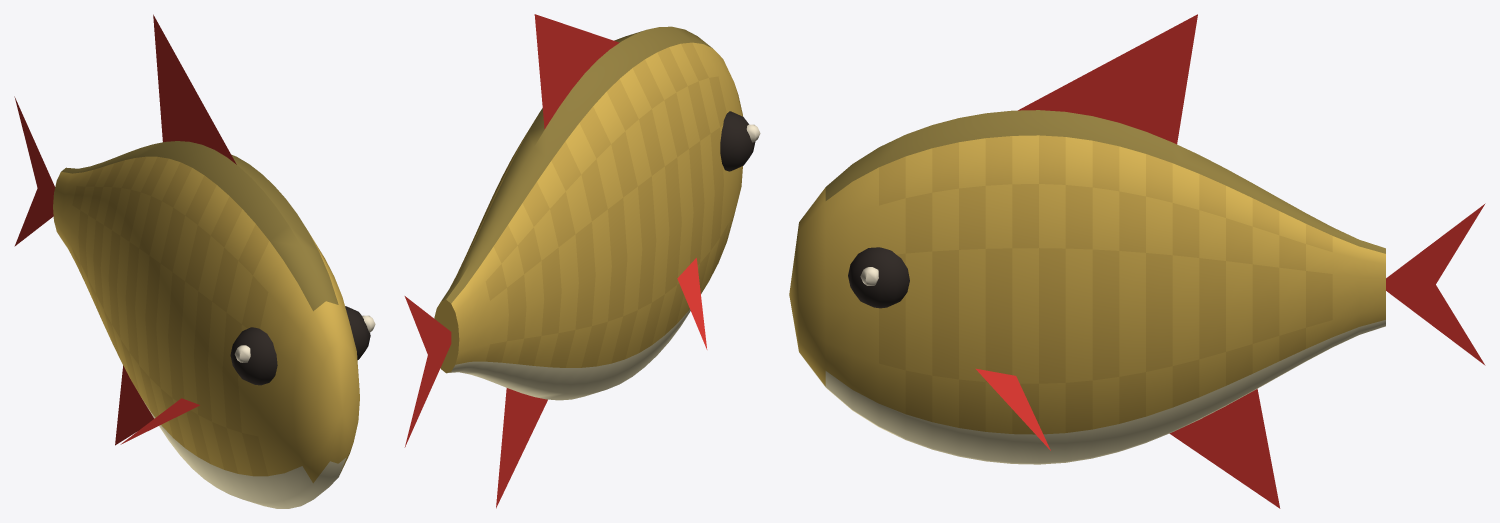
Rendered from rudd.fbx.
The picture shows the model from 3 angles, left to right: view 1: azimuth 30°, elevation 25°; view 2: azimuth 150°, elevation 25°; view 3: azimuth 270°, elevation 25°; orthographic projection. The views are drawn at different scales.
Parts seen in each view (by area): view 1: Fish_rudd_EXP; view 2: Fish_rudd_EXP; view 3: Fish_rudd_EXP.
Part boxes in pixels (x1,y1,x2,y2): Fish_rudd_EXP: (14, 14, 375, 508); Fish_rudd_EXP: (404, 14, 760, 508); Fish_rudd_EXP: (789, 14, 1485, 508).
Bounding box in the file's own units: 0.1555 × 0.335 × 0.4272.
